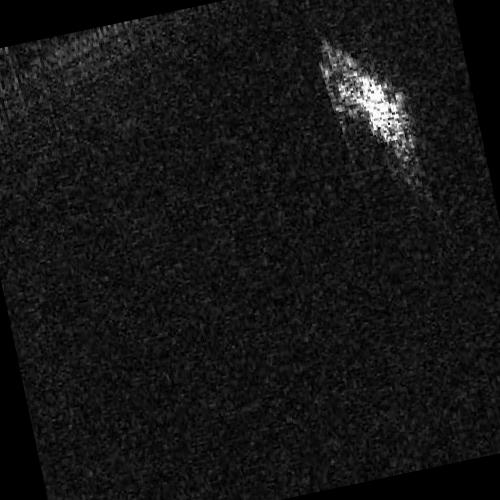ship: (322, 42, 406, 140)
